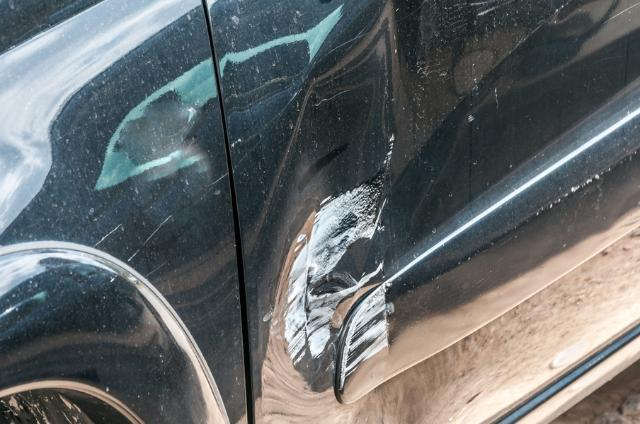Door: (211, 0, 463, 424)
Fender: (20, 29, 261, 424)
